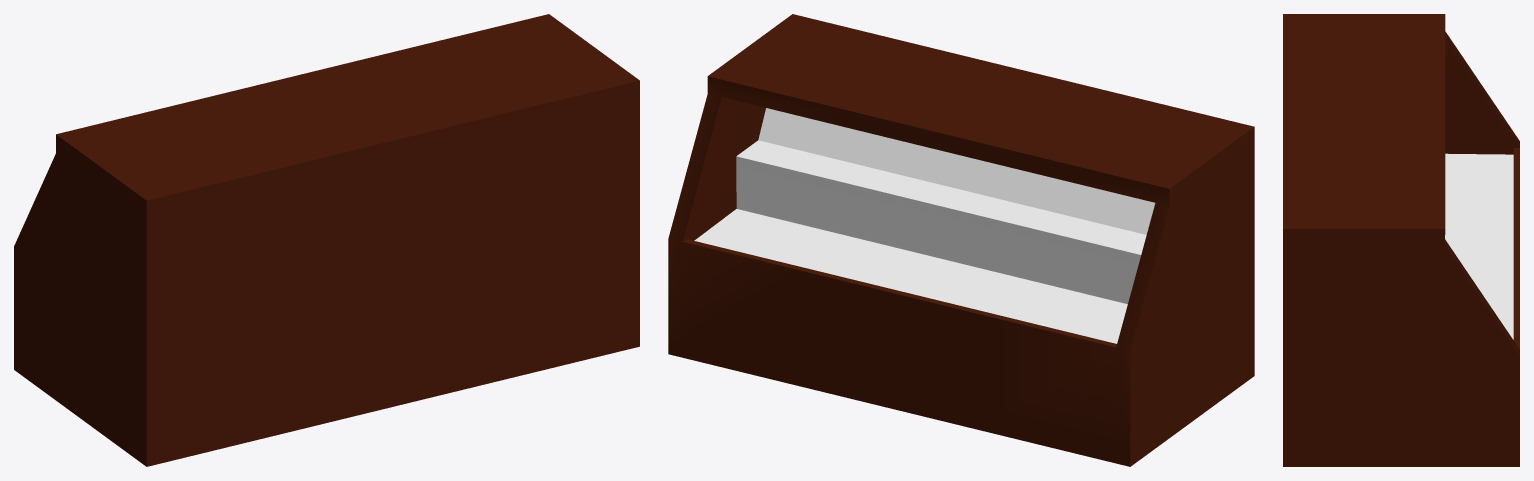
Rendered from ShelfMeats.fbx.
3 views of the same model, side by side, from view 1: azimuth 30°, elevation 25°; view 2: azimuth 150°, elevation 25°; view 3: azimuth 270°, elevation 25° (orthographic). The views are drawn at different scales.
Visible parts, largest first — view 1: Box003; view 2: Box003; view 3: Box003.
Boxes of the visible parts, left/top/right/bottom form: Box003: left=14, top=14, right=639, bottom=466; Box003: left=668, top=14, right=1254, bottom=466; Box003: left=1283, top=14, right=1519, bottom=466.
Size of the model in its own units: 79.15 by 40.84 by 36.86.
